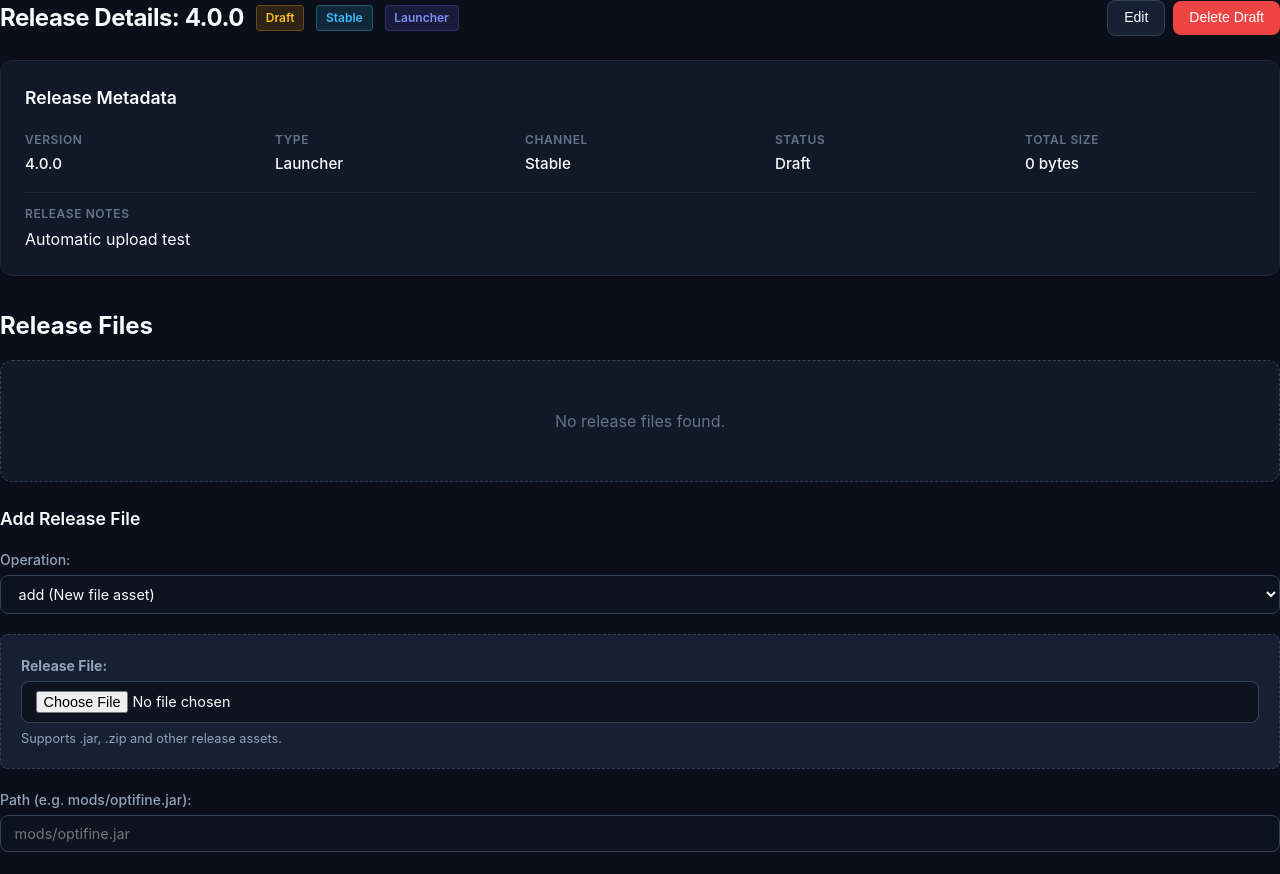
Scenario: Automatic Release Asset Processing & Multipart Upload UI Functional Tests › 7. Operation === "delete" does not show file input or execute inspect/upload, and submits size=0 metadata
The image size is (1280, 874).
# Select 'delete'
Select "delete (Remove asset from client)" in the dropdown labelled "Operation:" at {"x": 640, "y": 594}, box [0,575,1279,614]
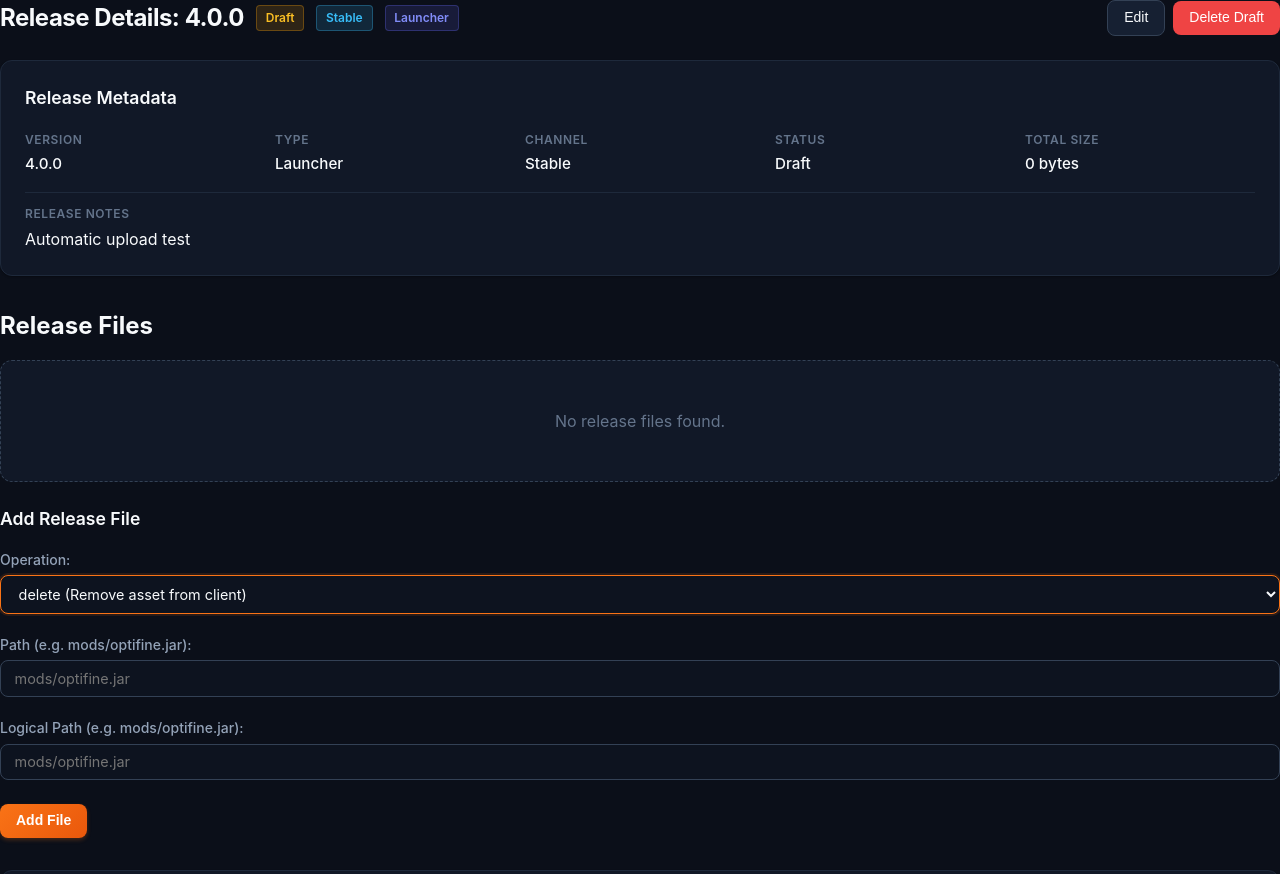
Now the label with test id "local-file-inspect" is gone
Now the element with test id "file-inspector-card" is gone
Type "mods/obsolete-mod.jar" into the field labelled "Path (e.g. mods/optifine.jar):" at {"x": 640, "y": 679}, box [0,660,1279,697]
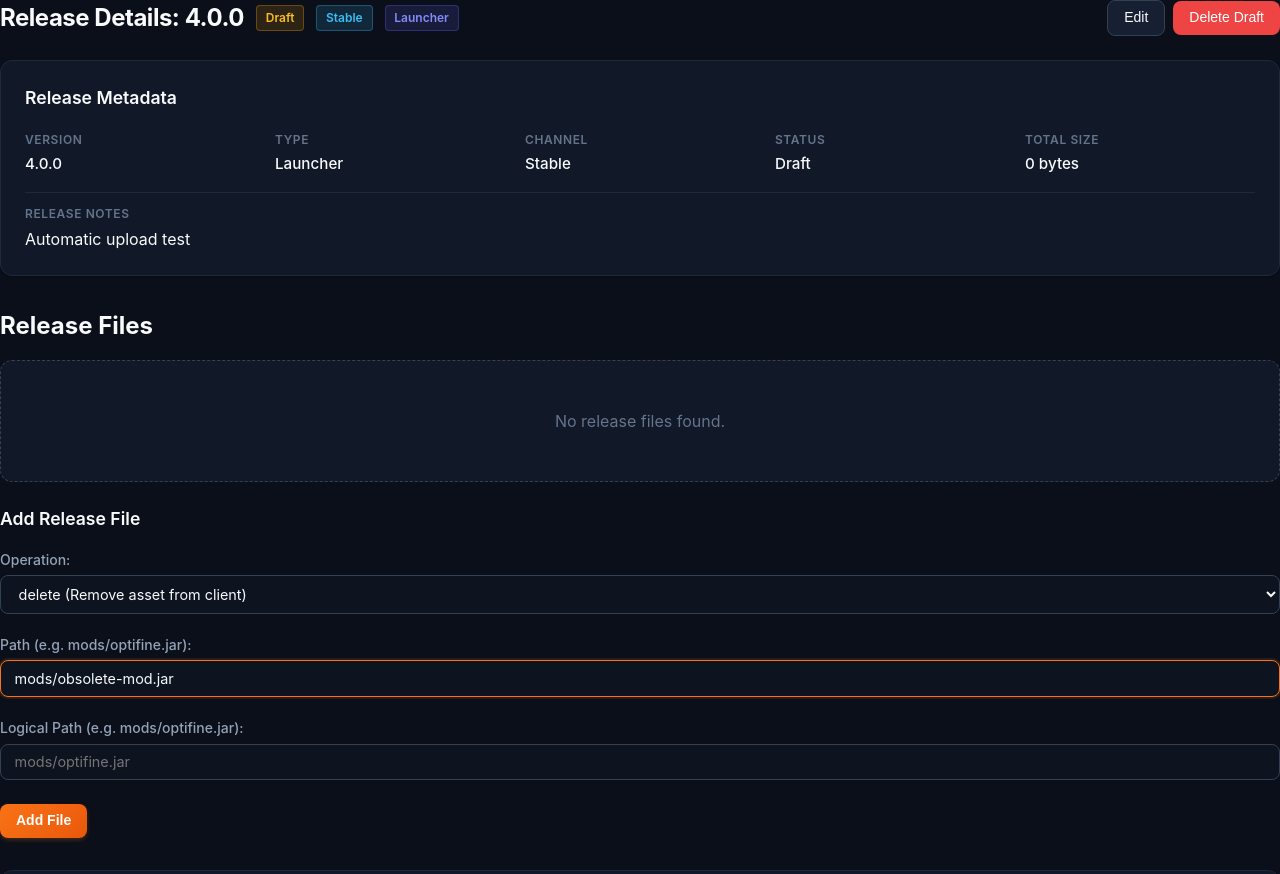
Type "mods/obsolete-mod.jar" into the field labelled "Logical Path (e.g. mods/optifine.jar):" at {"x": 640, "y": 762}, box [0,744,1279,780]
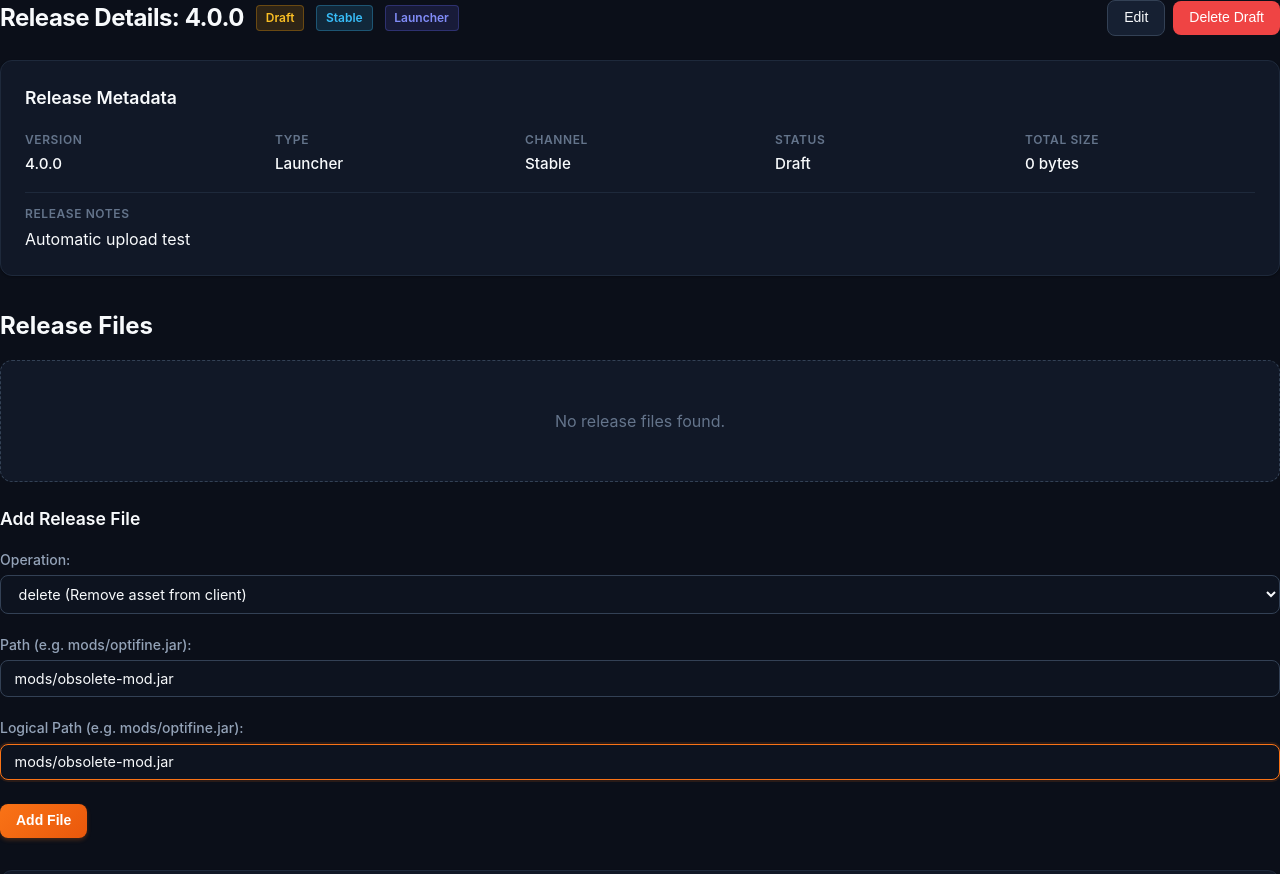
Click the button with test id "submit-asset-btn" at {"x": 44, "y": 821}, box [0,804,87,838]
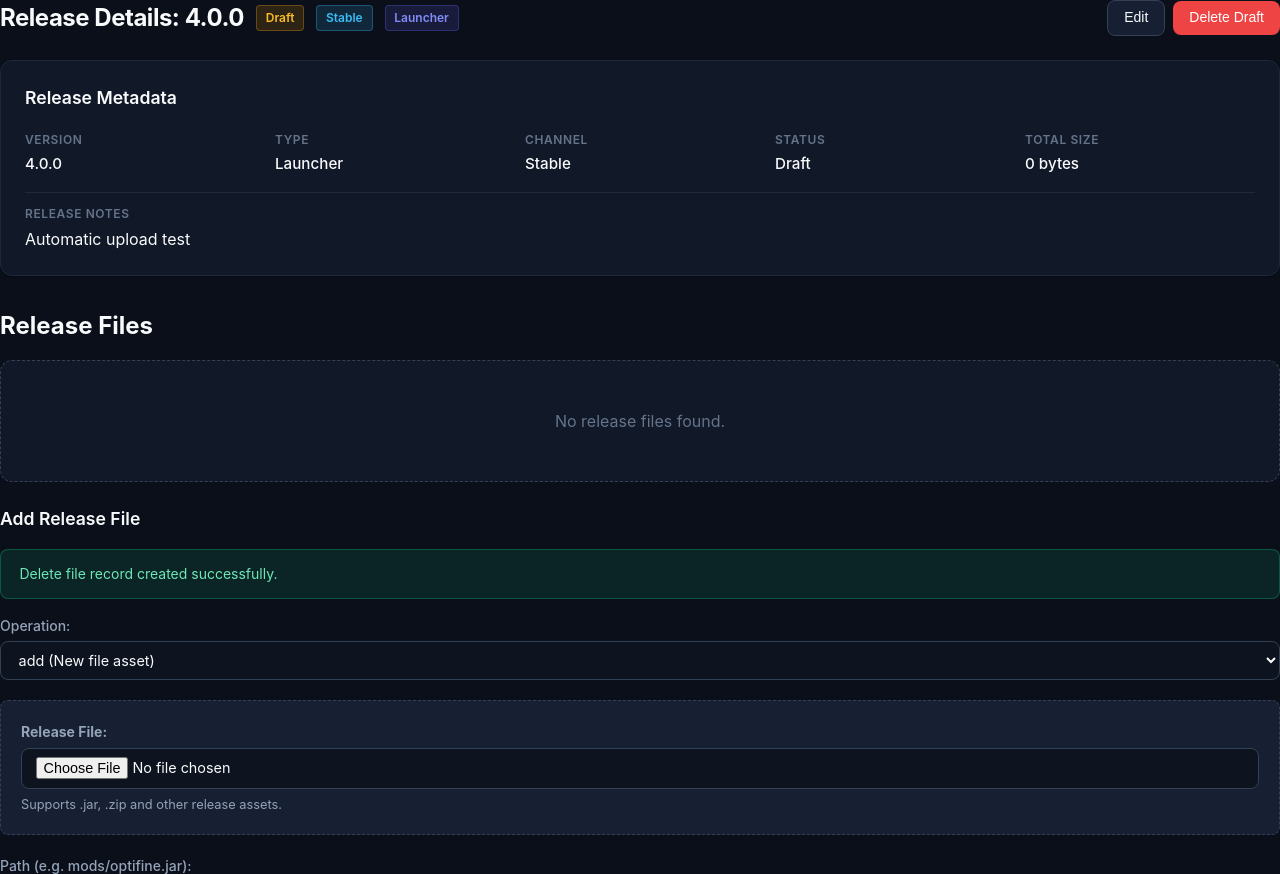
Now the text "Delete file record created successfully." is shown, box [0,549,1279,599]
